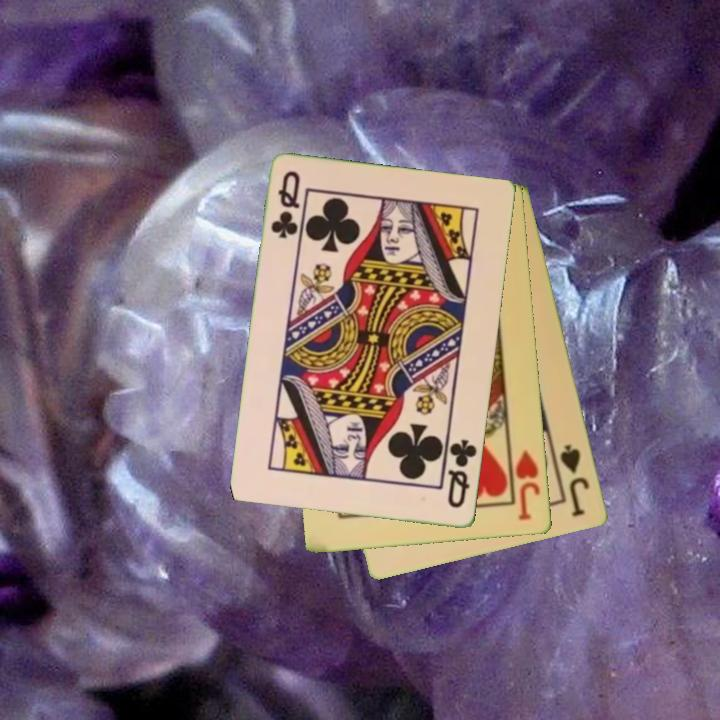Jh: (512, 447, 543, 524)
Js: (557, 441, 593, 520)
Qc: (442, 432, 480, 512), (268, 167, 304, 242)
